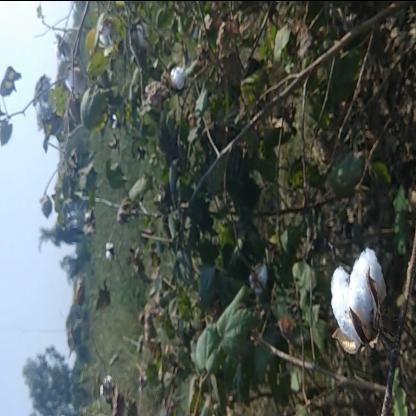cotton_ready: (317, 245, 399, 408)
